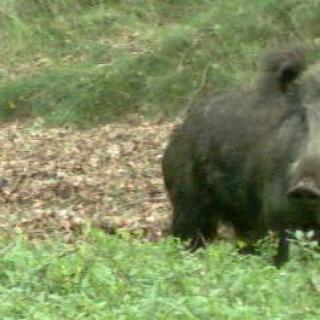Pig: (128, 46, 320, 246)
